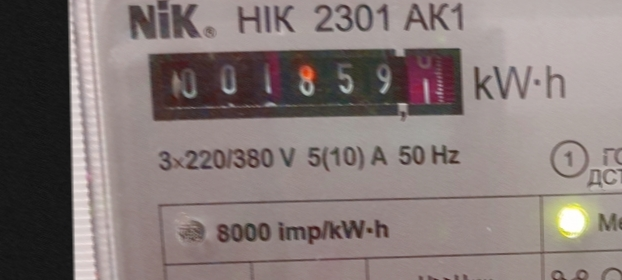0: (179, 65, 199, 101), (218, 62, 238, 96)
1: (262, 60, 274, 96), (420, 75, 433, 105)
5: (335, 60, 356, 96)
8: (297, 62, 317, 98)
9: (374, 61, 394, 95)
screen: (137, 35, 474, 131)
